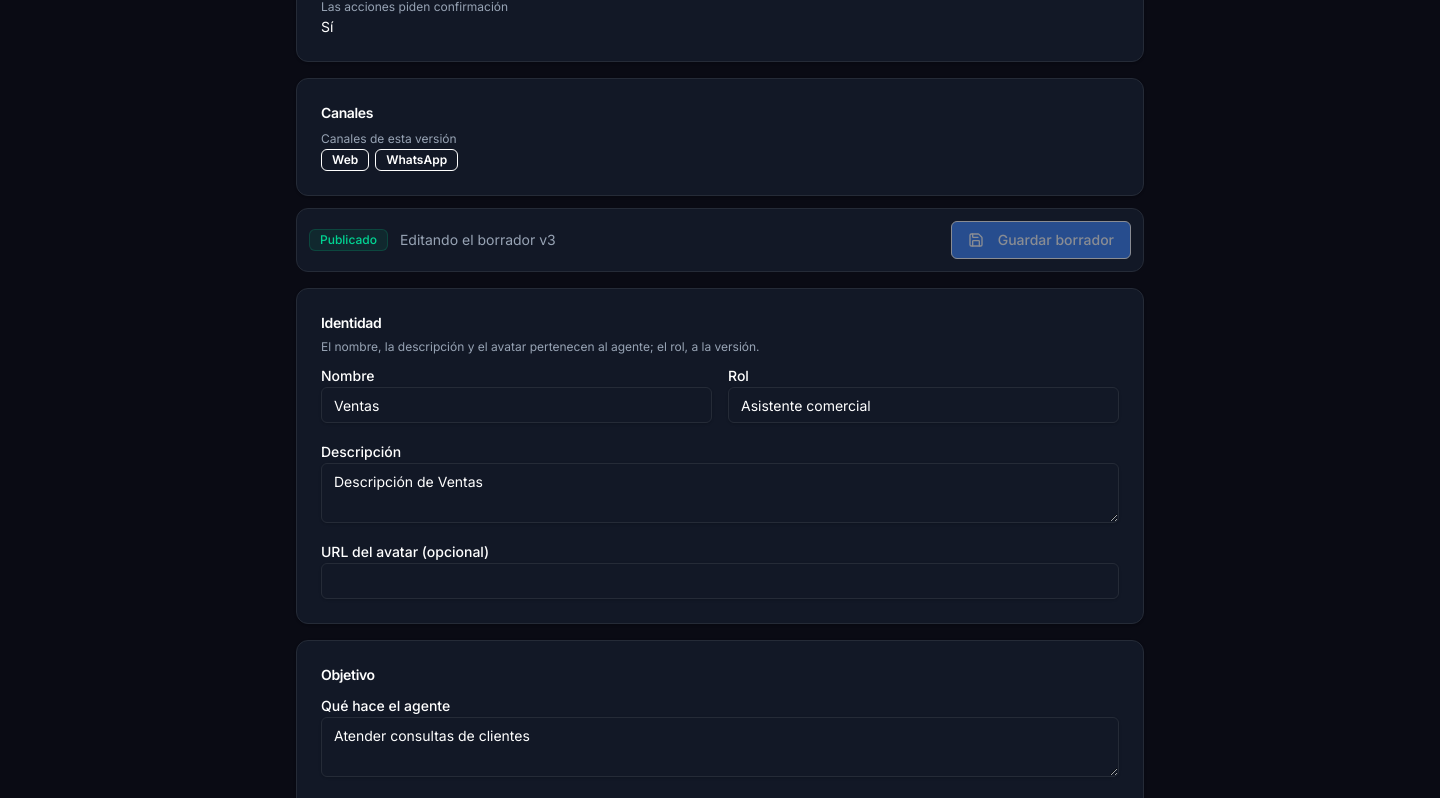
Builder — guardar › un cambio de configuración hace PUT /:id/draft con SOLO la sección modificada, refresca el detalle y avisa (borrador actualizado)
The width and height of the screenshot is (1440, 798).
(page scrolled)
Replace the text in the field labelled "Rol" with "  Vendedor " at x=924, y=405, box [728,387,1119,423]
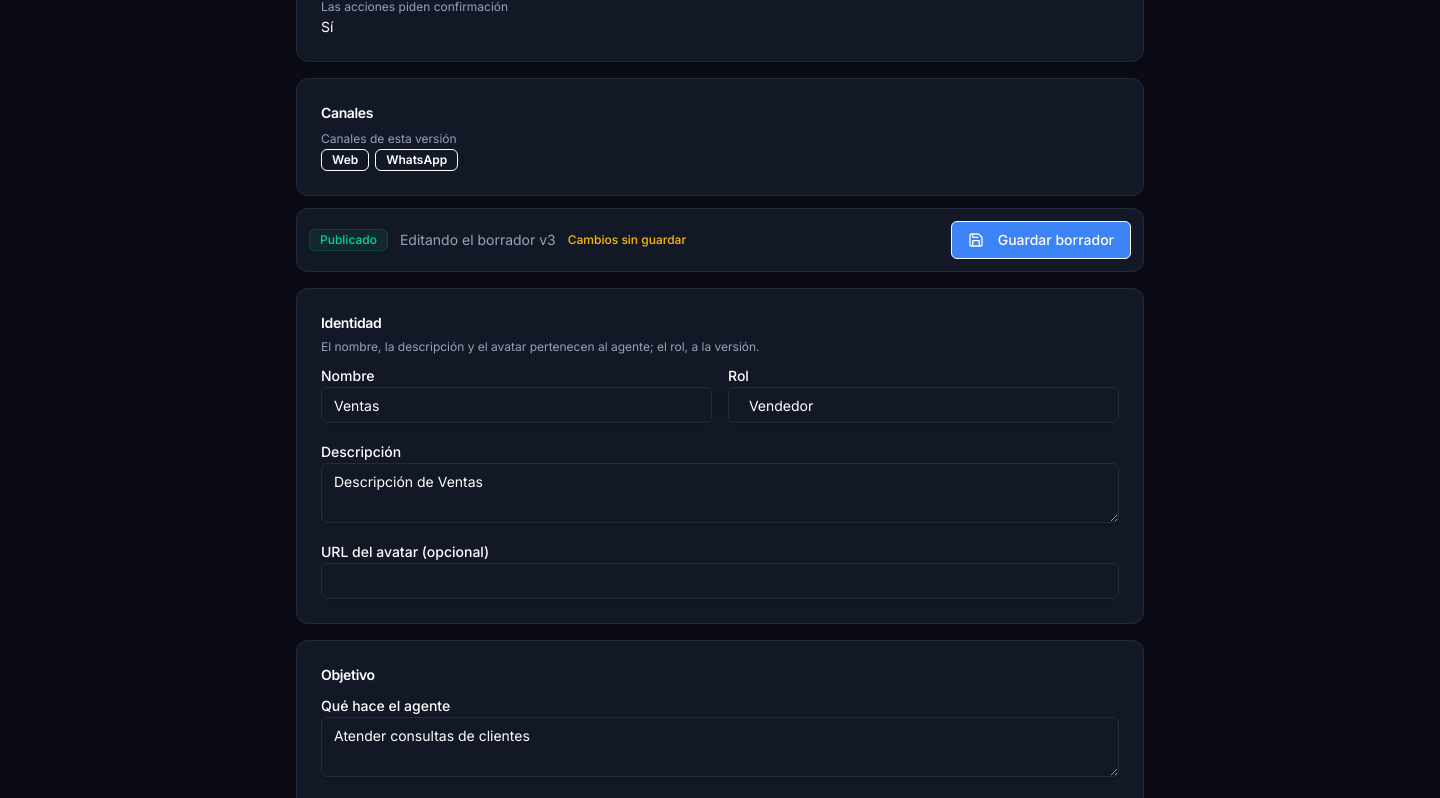
Click the button with test id "save-draft-button" at x=1041, y=240, box [951,221,1131,259]
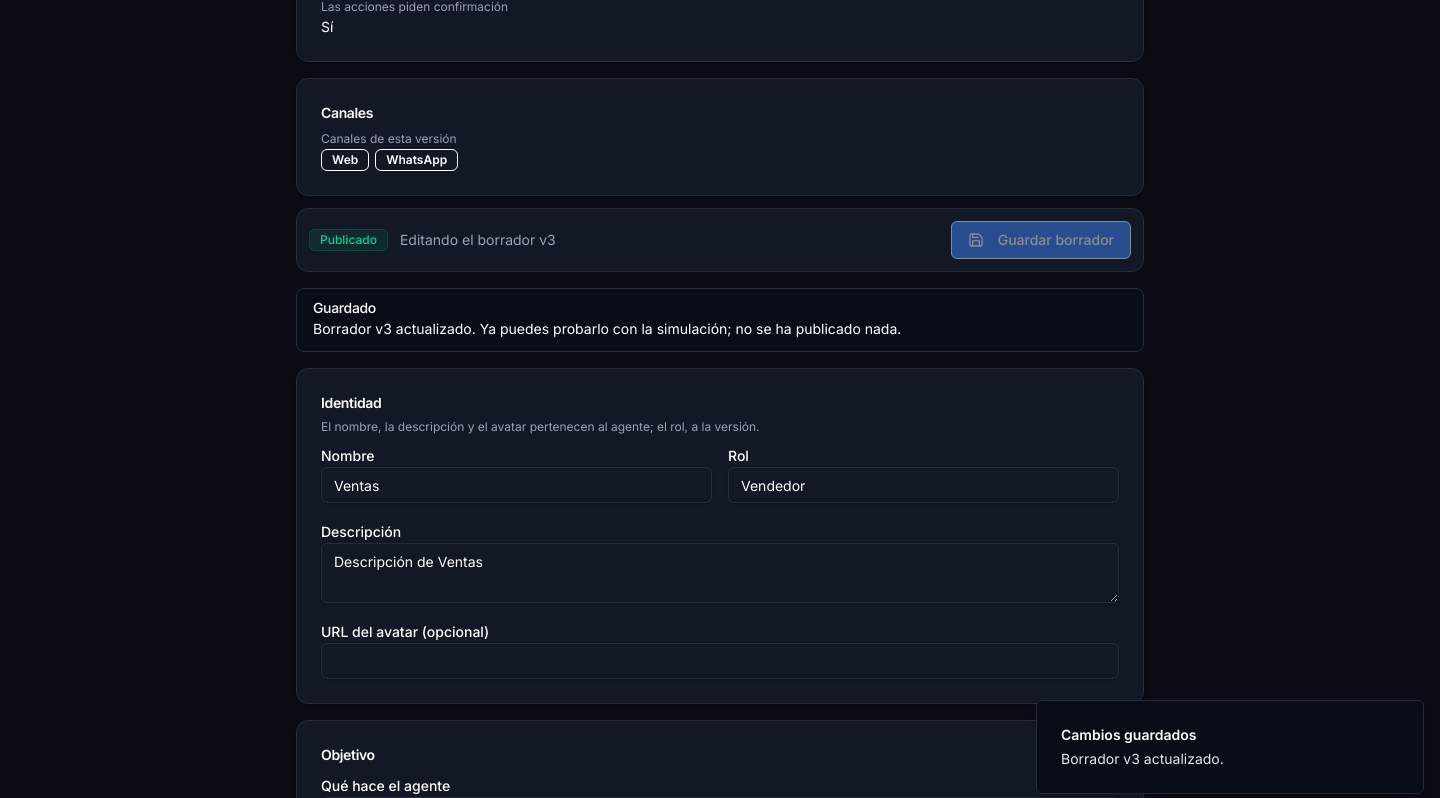
Check: the message with test id "save-result" shows "Borrador v3 actualizado.", box [313,320,476,337]
